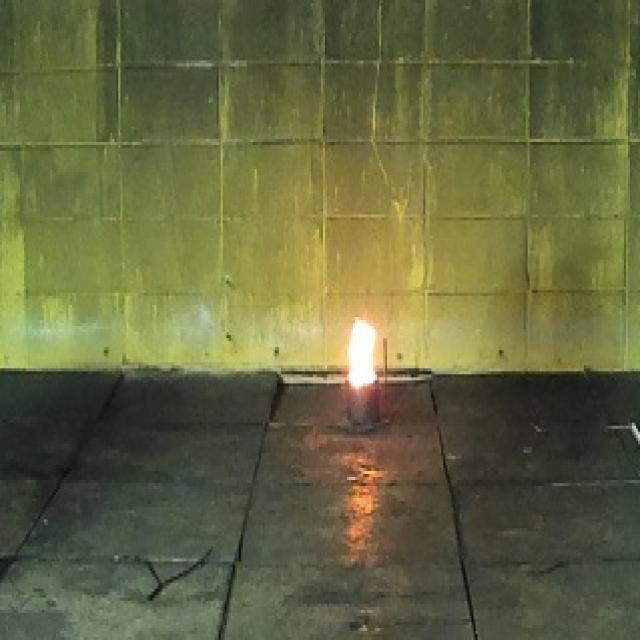Fire: (347, 316, 378, 387)
